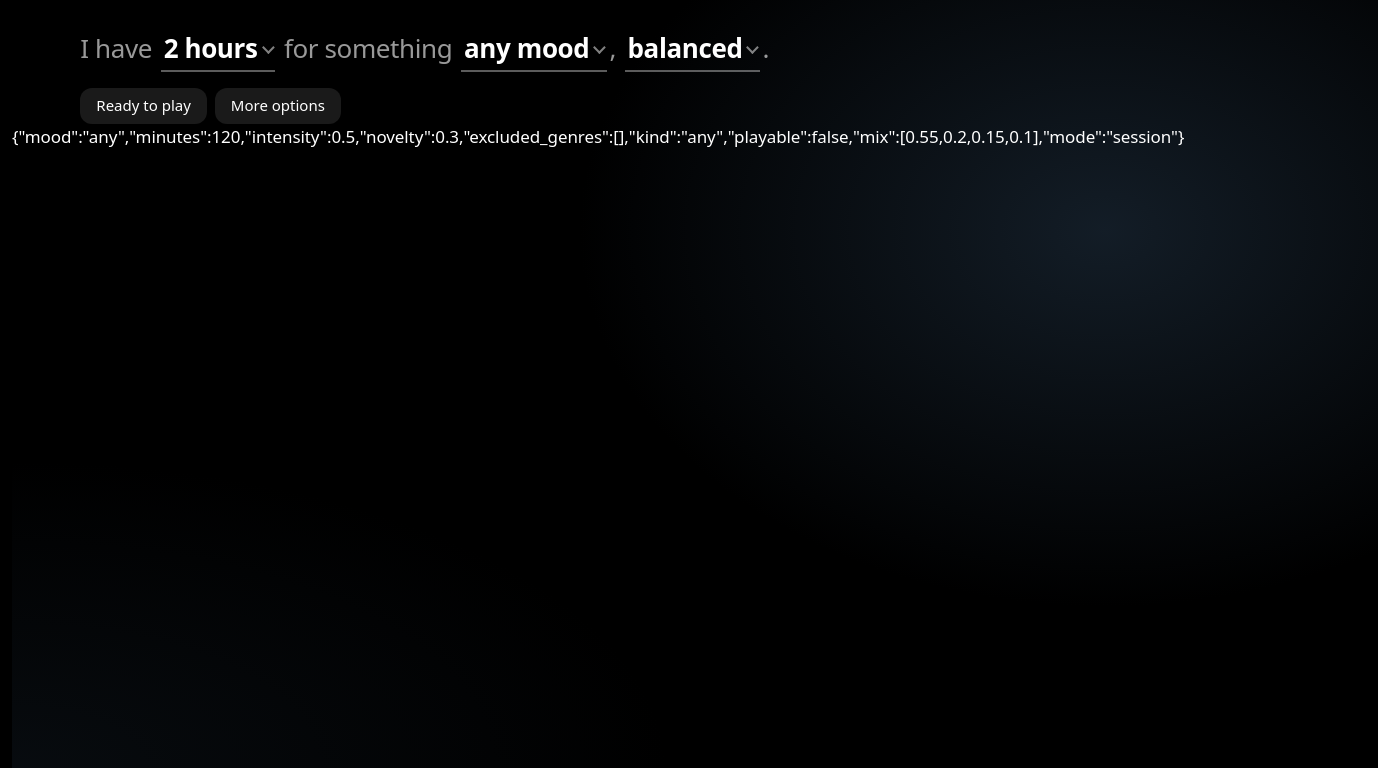
Test: the scene reads as a sentence, and each word opens its choices
The width and height of the screenshot is (1378, 768).
Expected: the text "I have 2 hours for something any mood , balanced ." is shown, [80,28,769,72]
Click the button with aria-label "Time: 2 hours. Change". click: (218, 50)
box: [161,28,275,72]
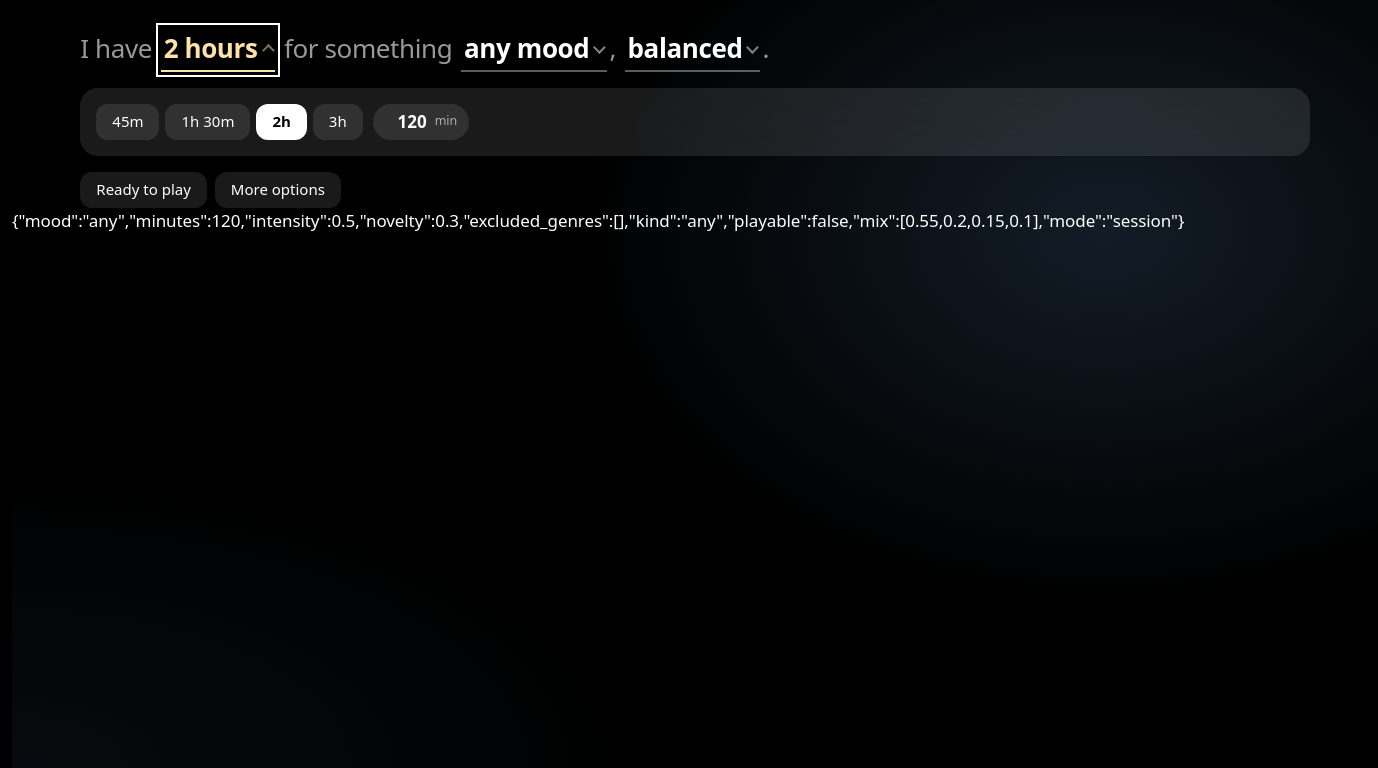
Click the button "1h 30m". click: (208, 122)
box: [166,104,250,140]
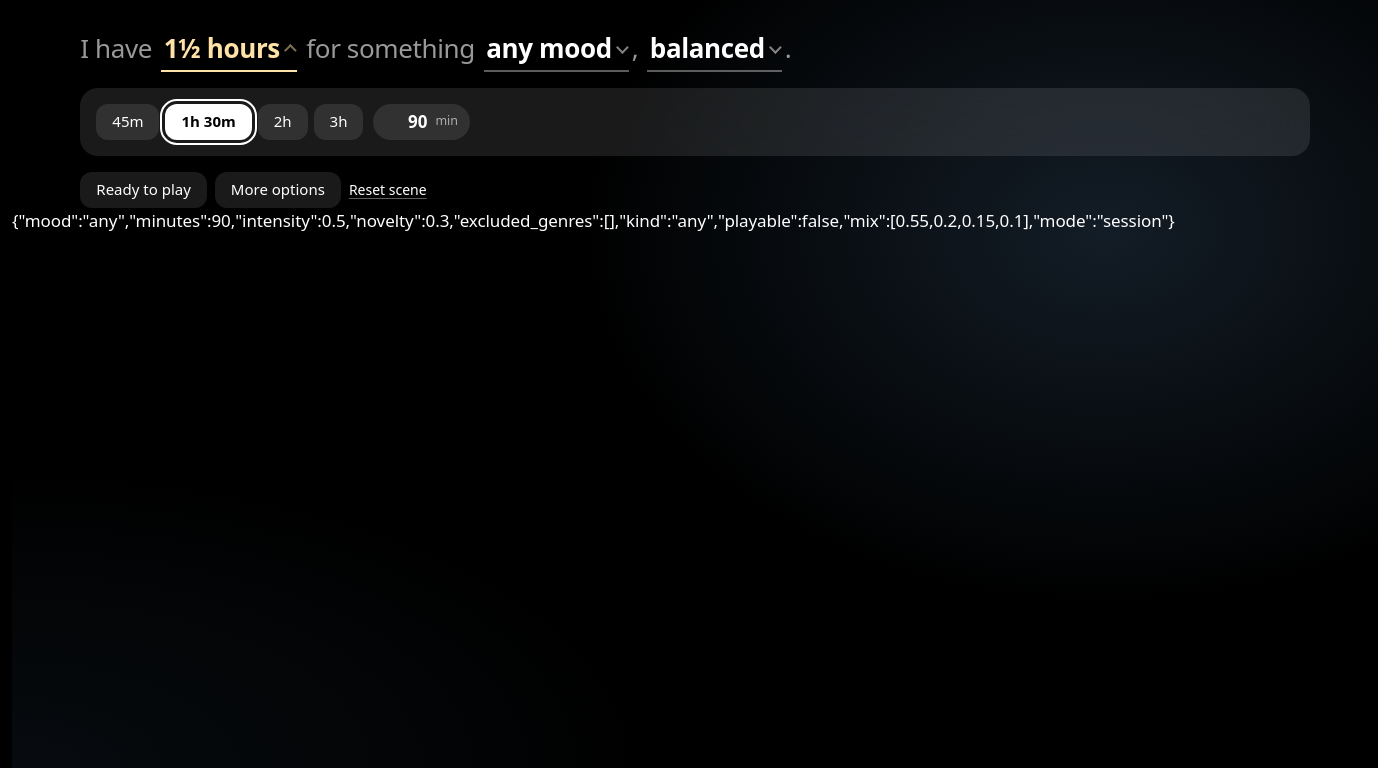
Now the button with aria-label "Time: 1½ hours. Change" is expanded, box [161,28,297,72]
Click the button with aria-label "Energy: balanced. Change". click: (715, 50)
box: [647,28,782,72]
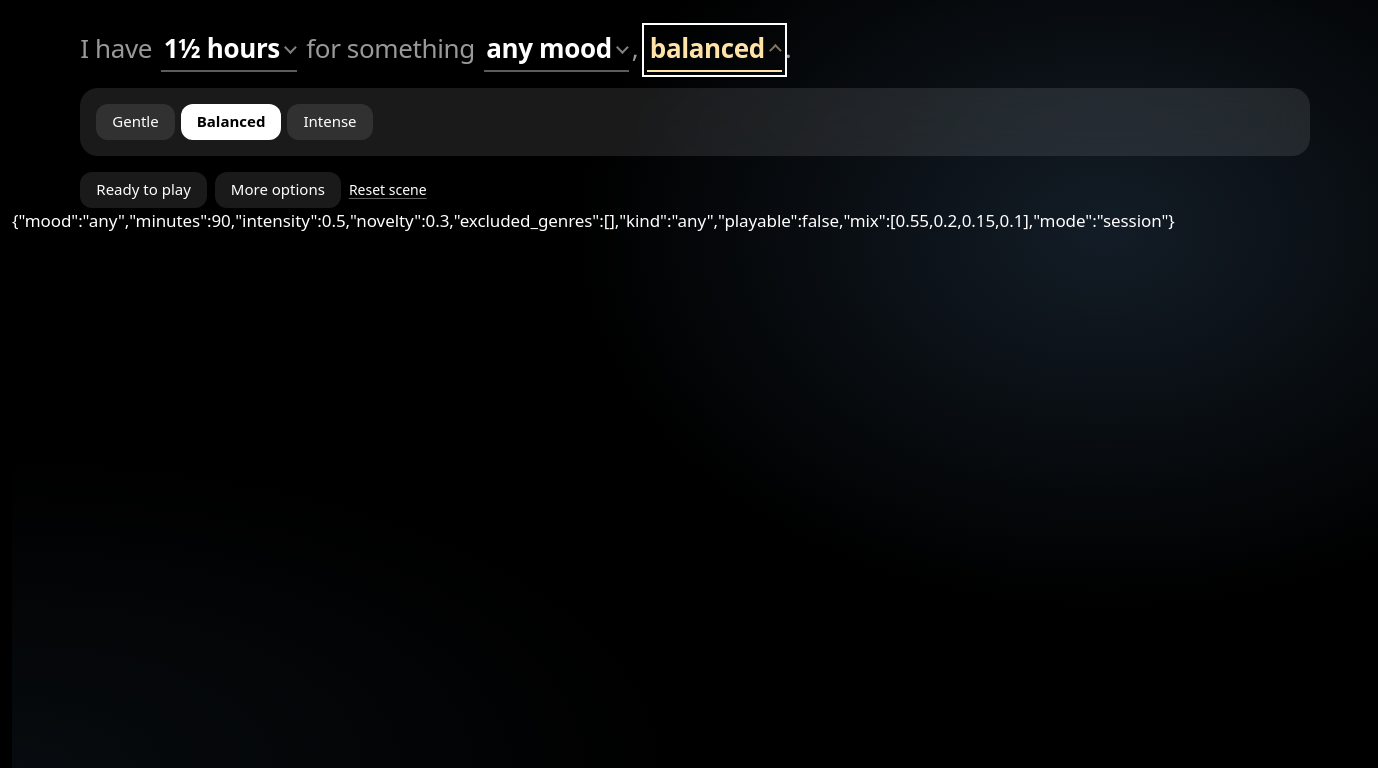
Click the radio button labelled "Gentle". click: (136, 122)
box: [96,104,175,140]
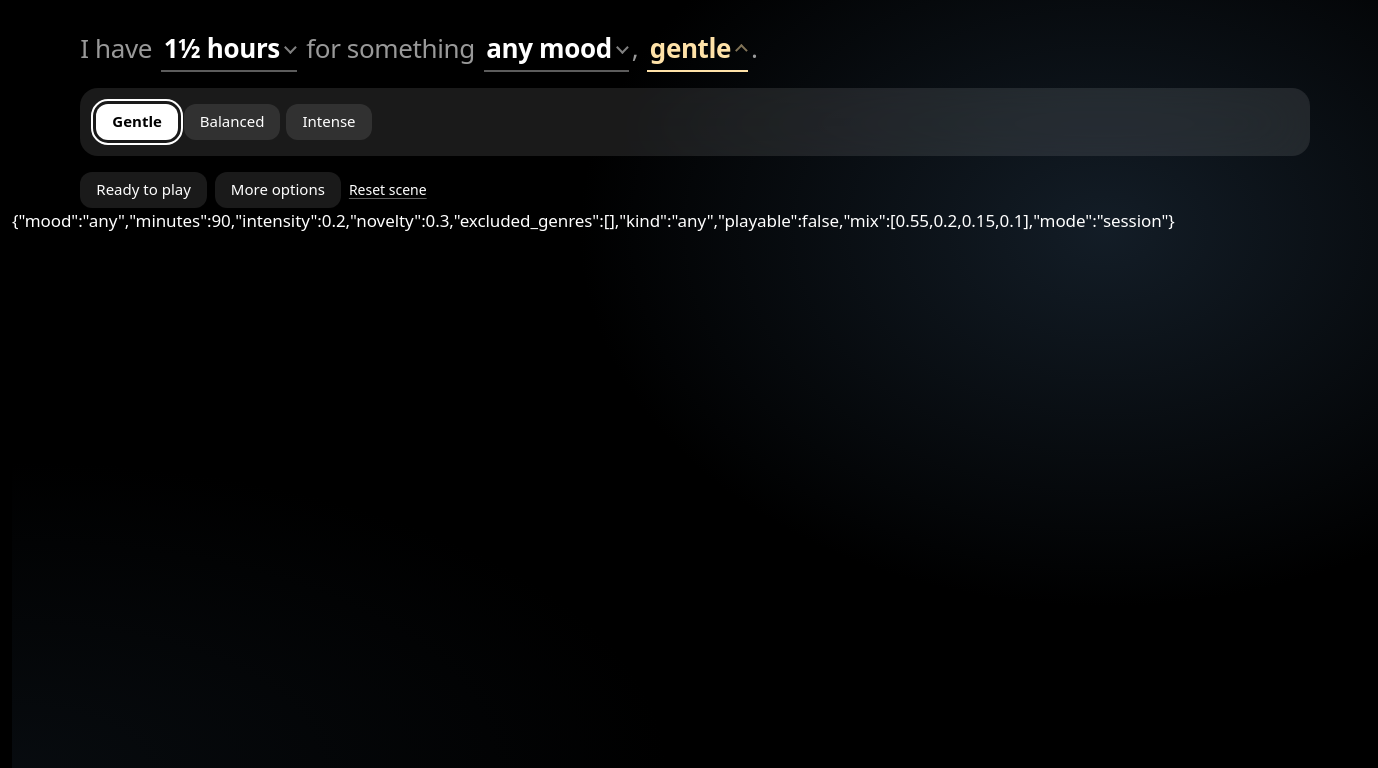
Press Escape
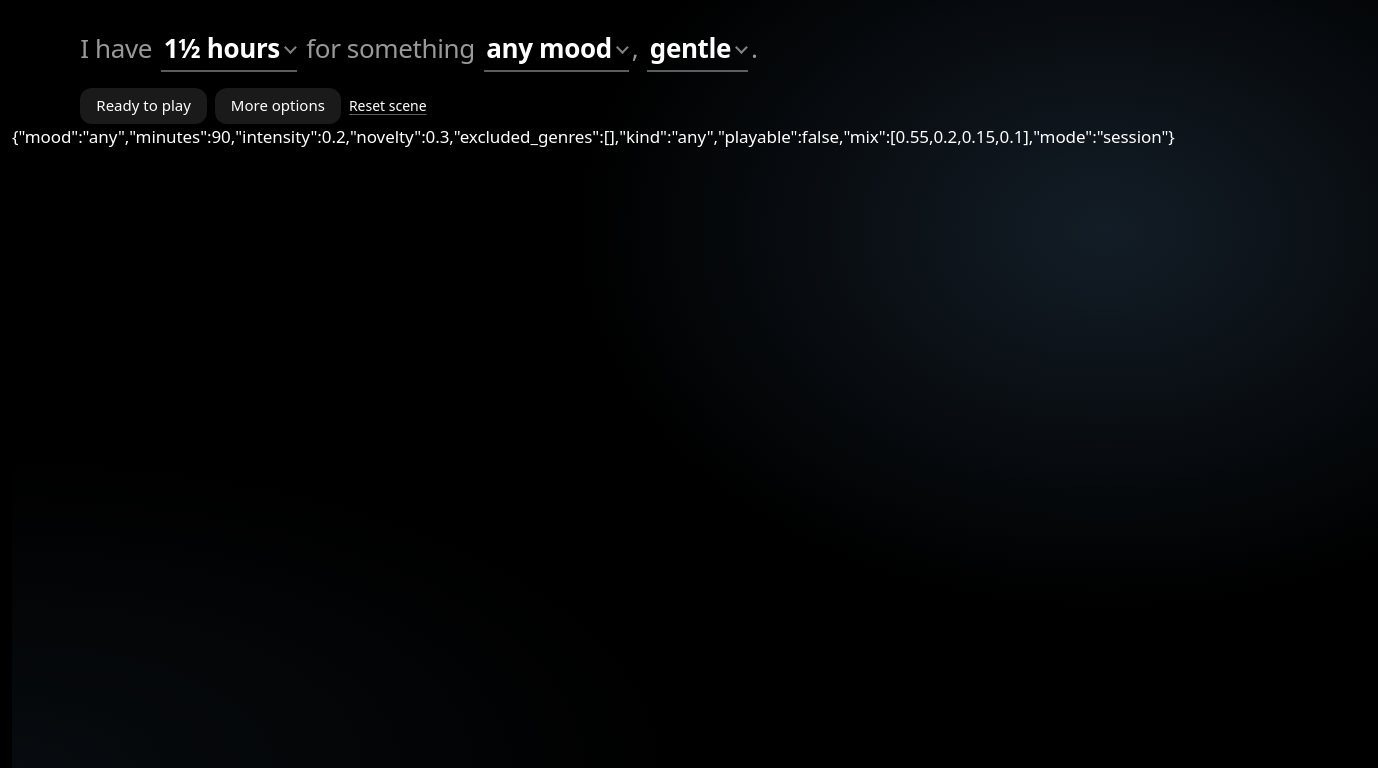
Now the element "Energy" is gone
